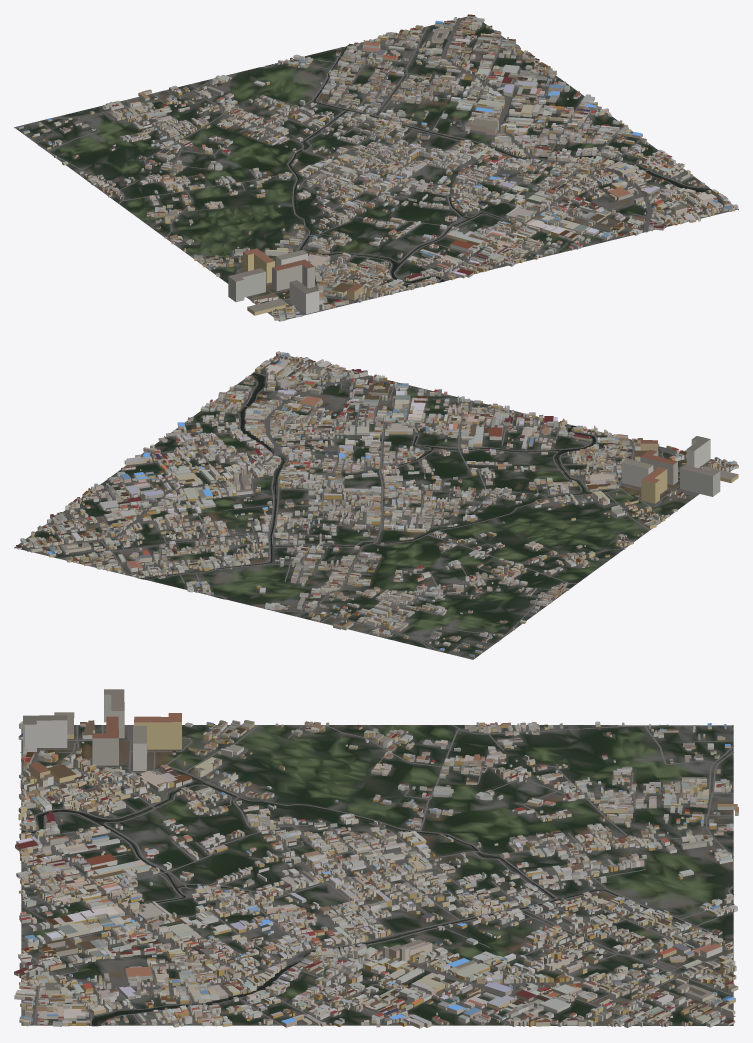
The picture shows the model from 3 angles, top to bottom: view 1: azimuth 30°, elevation 25°; view 2: azimuth 150°, elevation 25°; view 3: azimuth 270°, elevation 25°; orthographic projection. The views are drawn at different scales.
Visible parts, largest first — view 1: buildings, ground, roads, water; view 2: ground, buildings, roads, water; view 3: buildings, ground, roads, water.
Boxes of the visible parts, x1=… form: buildings: x1=18, y1=14, x2=738, y2=321; ground: x1=14, y1=16, x2=738, y2=321; roads: x1=38, y1=18, x2=723, y2=318; water: x1=266, y1=46, x2=711, y2=283; ground: x1=14, y1=355, x2=732, y2=659; buildings: x1=16, y1=351, x2=738, y2=657; roads: x1=26, y1=357, x2=712, y2=653; water: x1=140, y1=373, x2=595, y2=598; buildings: x1=14, y1=689, x2=738, y2=1028; ground: x1=21, y1=725, x2=733, y2=1026; roads: x1=19, y1=724, x2=735, y2=1025; water: x1=21, y1=782, x2=733, y2=1025.
Bounding box in the file's own units: 1452 × 63.33 × 1426.
